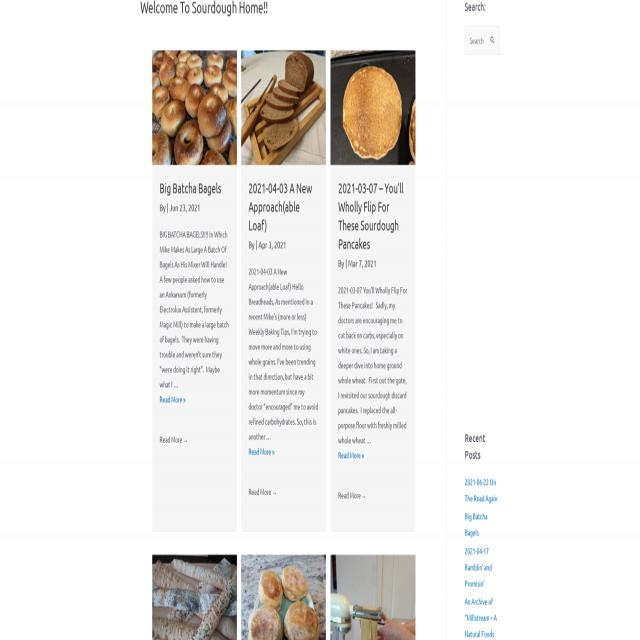button: (330, 50, 416, 165), (152, 50, 237, 165), (241, 50, 326, 165)
field: (464, 26, 500, 54), (486, 26, 499, 54)
